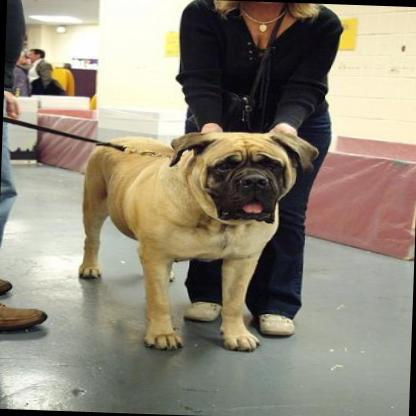bull_mastiff: (75, 124, 319, 354)
